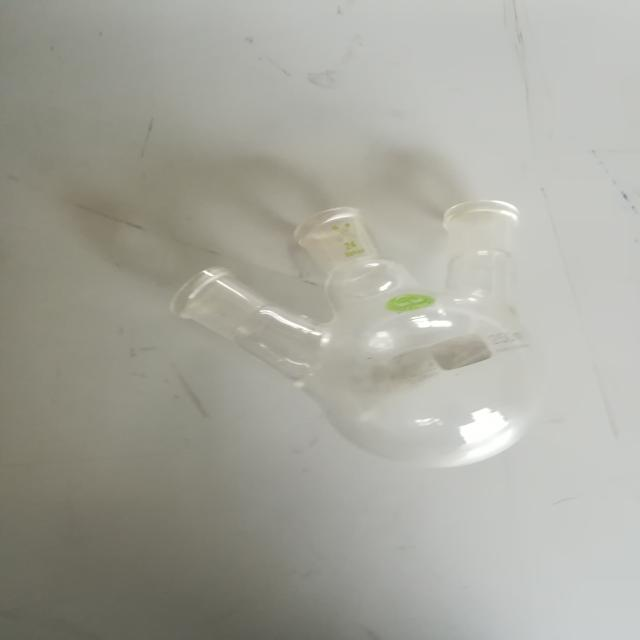Round_Bottom_Flask_Borosilicate_Glass_3_Neck: (136, 153, 612, 518)
